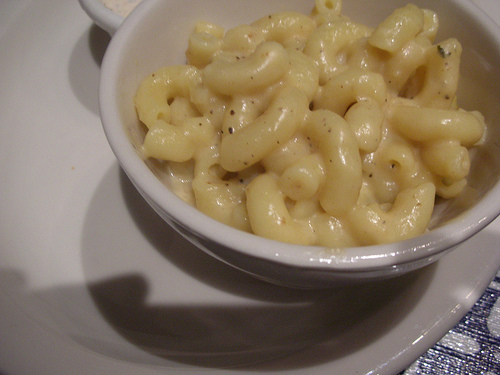macncheese: (131, 1, 490, 247)
